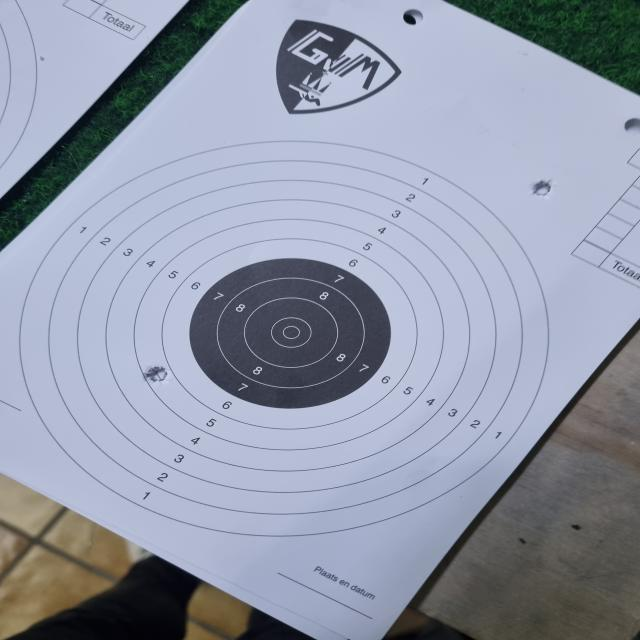0: (532, 180, 552, 197)
5: (143, 366, 168, 382)
Target: (17, 140, 551, 540)
black_contour: (189, 257, 392, 409)
